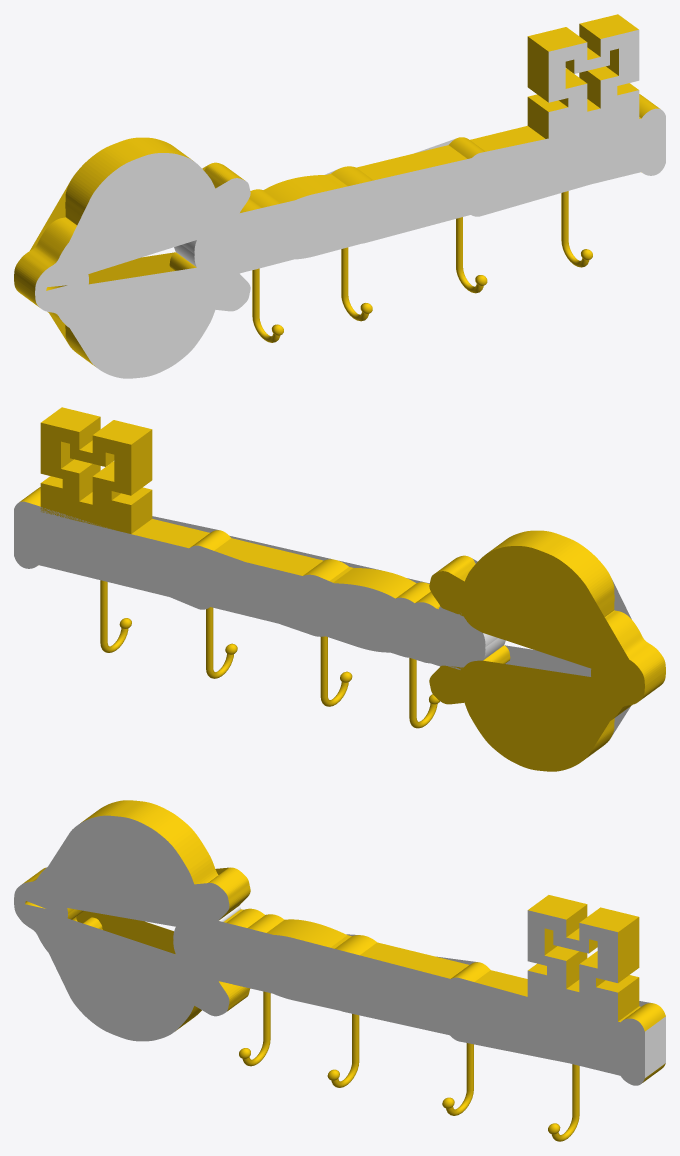
The model's file is key.obj.
3 renders of one model, top to bottom at view 1: azimuth 30°, elevation 25°; view 2: azimuth 150°, elevation 25°; view 3: azimuth 330°, elevation 25°, orthographic.
Visible parts, largest first — view 1: grp7, grp11, grp4, grp10, grp2, grp8, grp1, grp6, grp3; view 2: grp10, grp7, grp6, grp4, grp1, grp8, grp3; view 3: grp7, grp11, grp4, grp2, grp8, grp1, grp10, grp6, grp3, grp9.
Part boxes in pixels (box(x1,y1,x2,y2)): grp7: box(35, 108, 665, 378); grp11: box(35, 153, 250, 293); grp4: box(174, 139, 665, 276); grp10: box(14, 137, 592, 292); grp2: box(548, 30, 639, 138); grp8: box(240, 94, 659, 212); grp1: box(527, 14, 638, 138); grp6: box(14, 252, 196, 366); grp3: box(252, 217, 487, 342); grp10: box(100, 530, 665, 686); grp7: box(14, 501, 630, 735); grp6: box(429, 645, 665, 771); grp4: box(14, 532, 505, 669); grp1: box(40, 407, 152, 533); grp8: box(20, 487, 440, 609); grp3: box(206, 607, 439, 728); grp7: box(14, 901, 652, 1054); grp11: box(14, 815, 229, 926); grp4: box(173, 940, 665, 1085); grp2: box(527, 910, 617, 1021); grp8: box(224, 908, 665, 1031); grp1: box(528, 895, 639, 1021); grp10: box(23, 800, 579, 1141); grp6: box(25, 902, 250, 1031); grp3: box(239, 991, 473, 1115); grp9: box(219, 905, 665, 1054).
Bounding box in the file's own units: 59.62 × 20.51 × 5.02.
